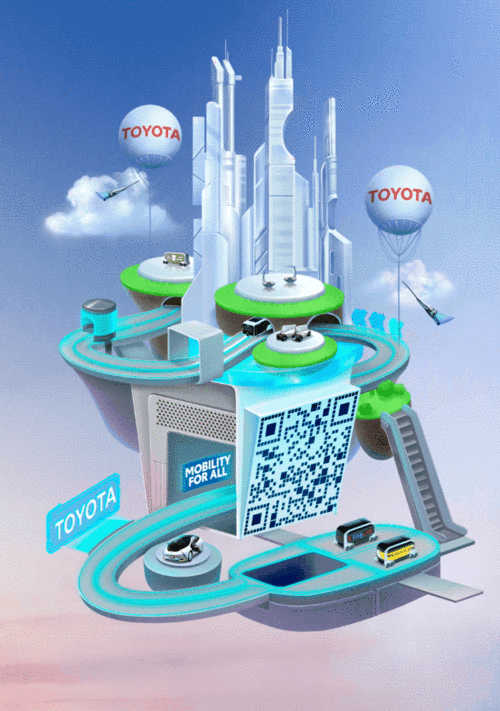QRCode: (244, 392, 361, 534)
